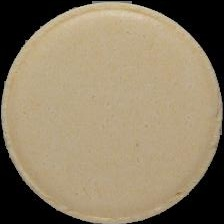54868-4637: (0, 0, 224, 224)
